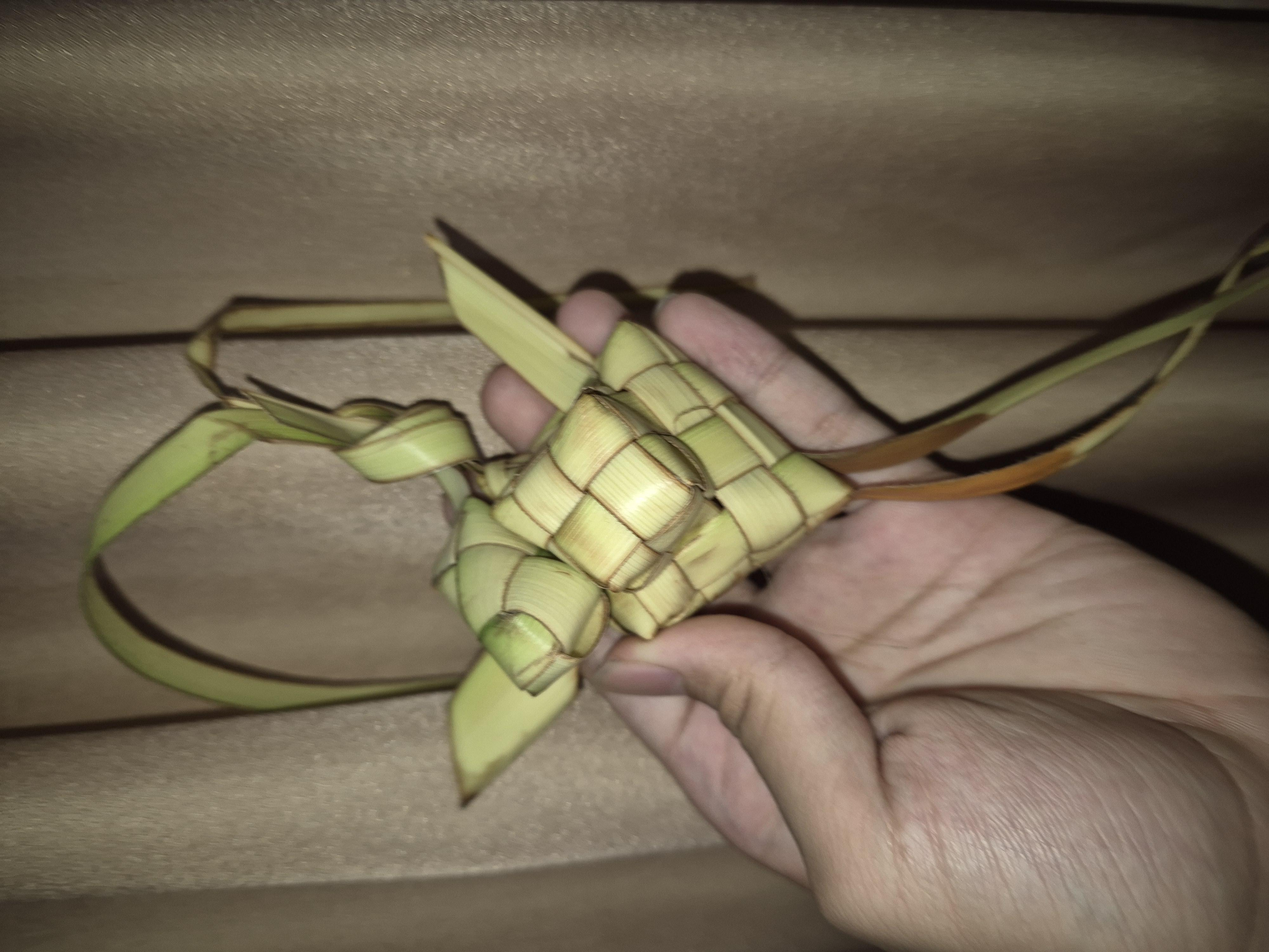Tipat Gong: (418, 364, 839, 640)
